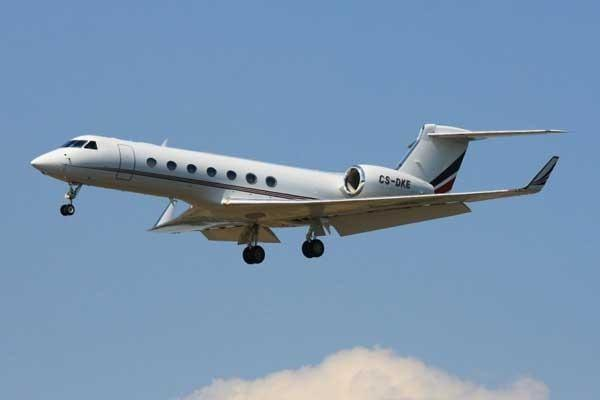airplane: (33, 101, 571, 266)
